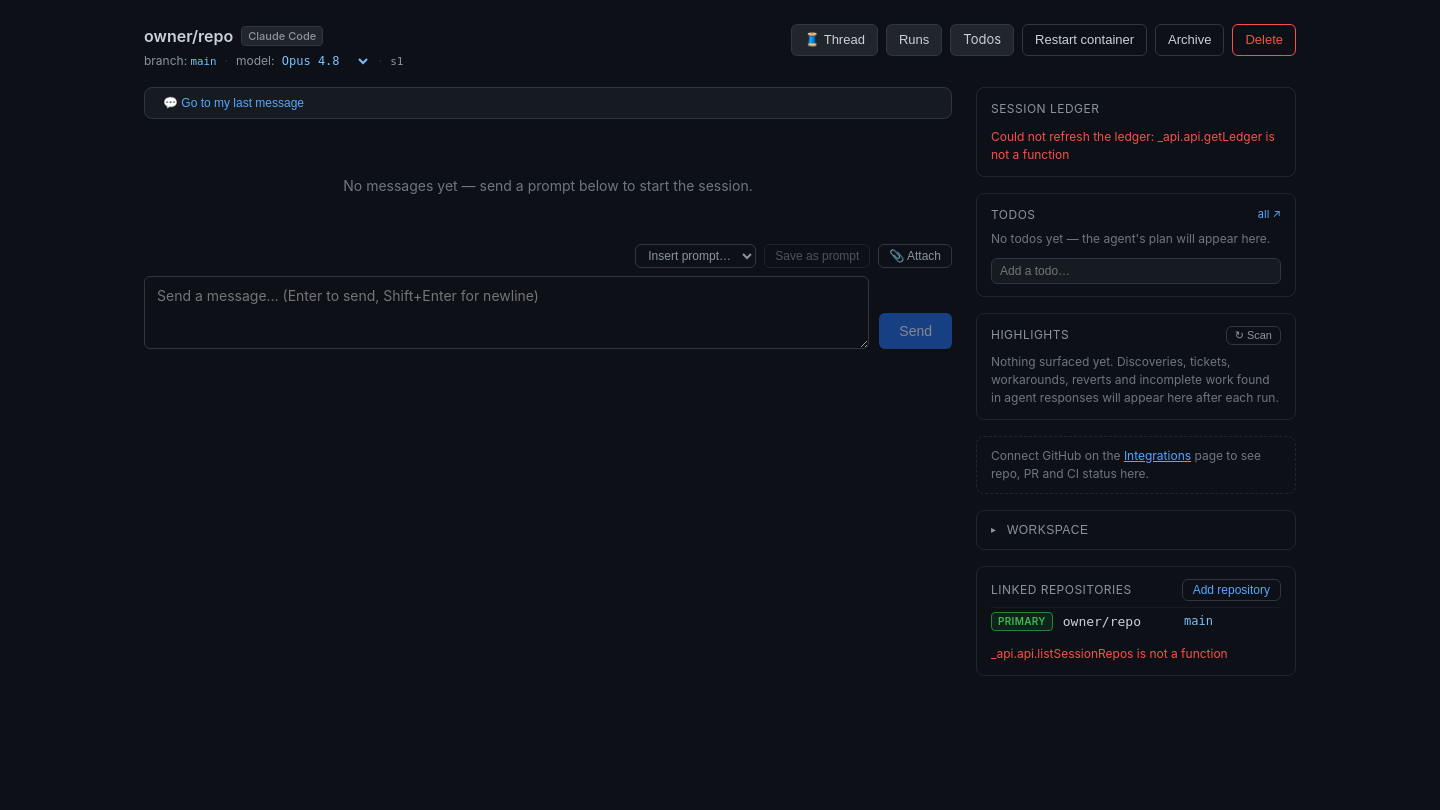
SessionDetail template modal › cancels without rendering and restores focus to the picker
This screenshot has width=1440, height=810.
Select "Greeting" in the dropdown named "Insert a saved prompt": [696, 256] box left=635, top=244, right=756, bottom=268
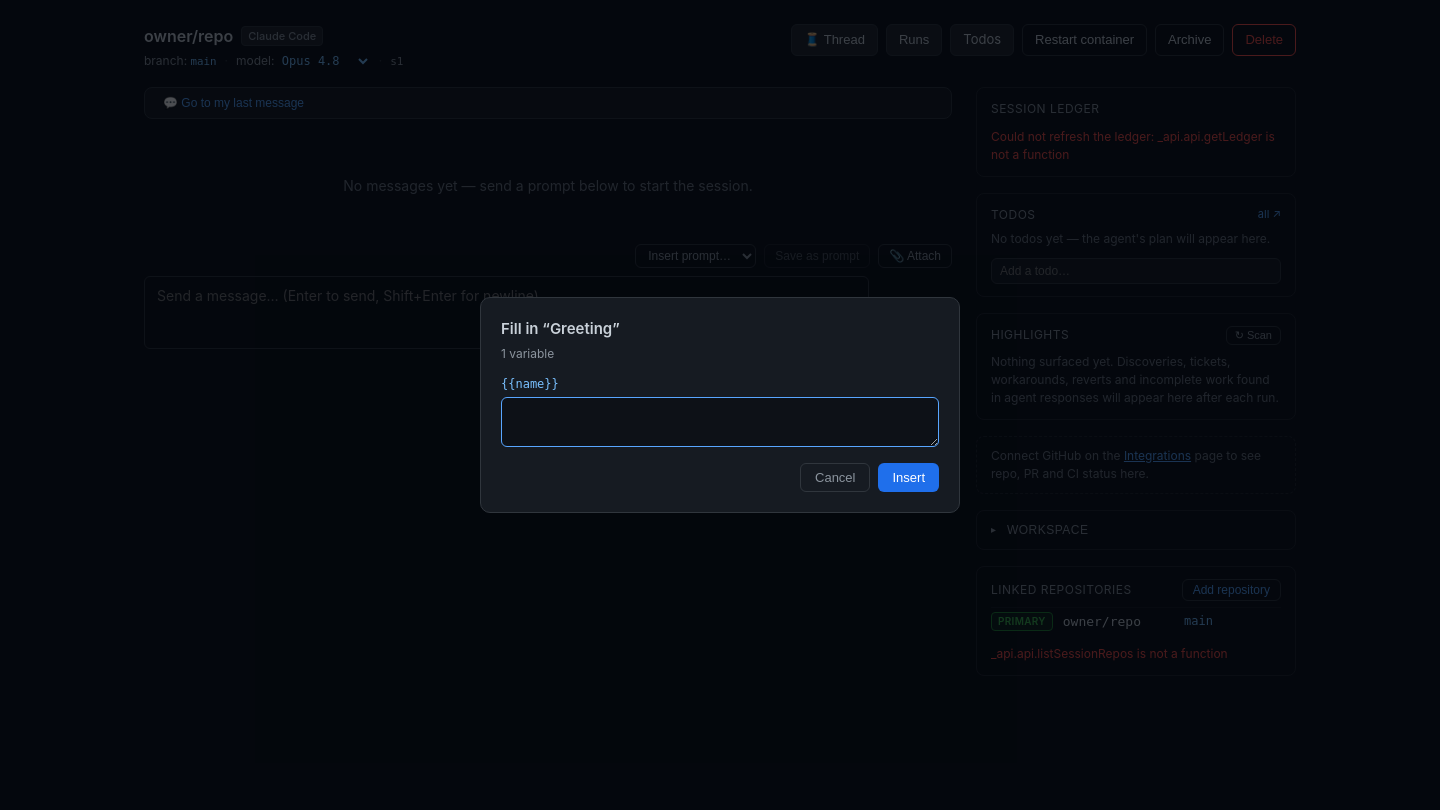
Click the button "Cancel": [835, 477] box left=800, top=463, right=870, bottom=492
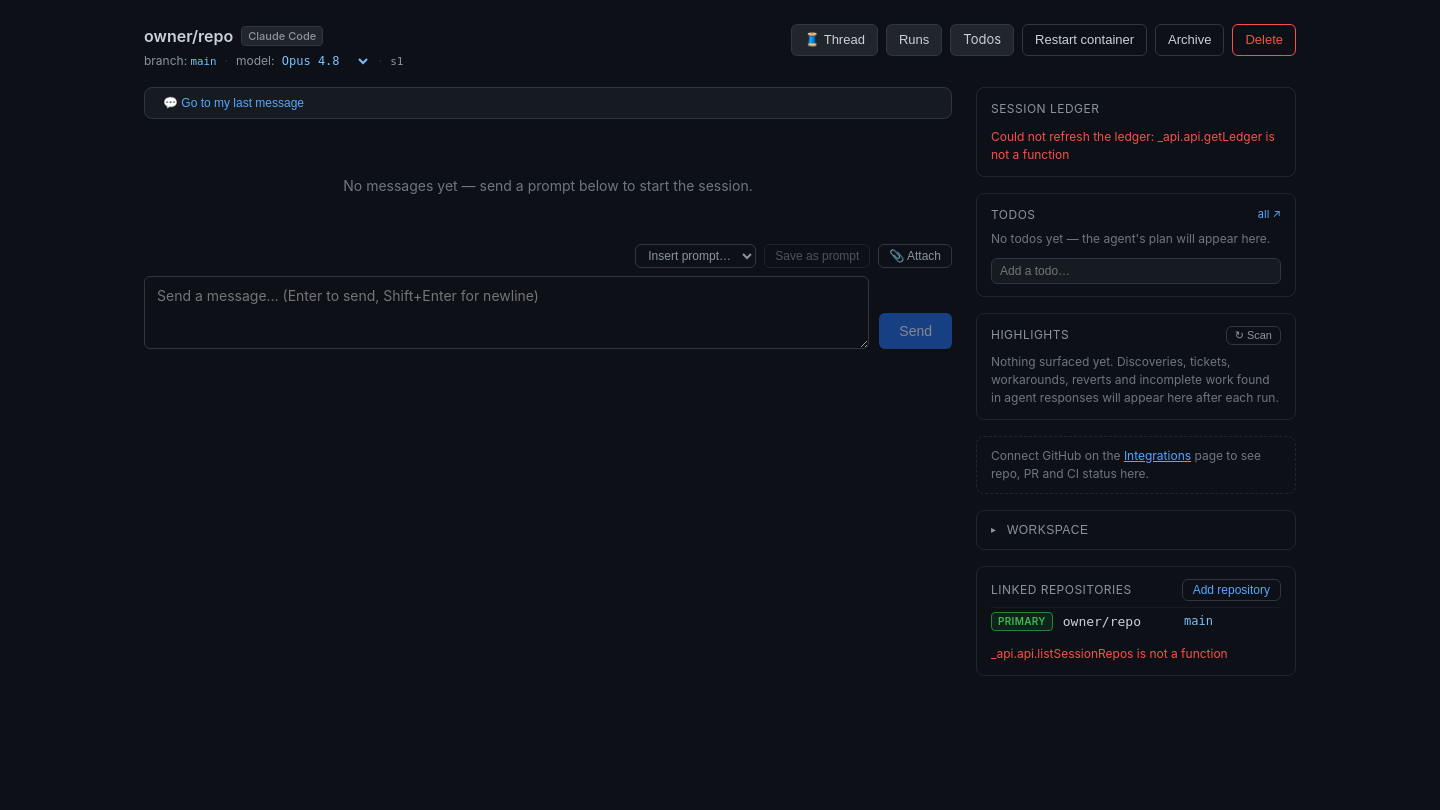
Expected: the text box with placeholder "Send a message… (Enter to send, Shift+Enter for newline)" is empty, left=144, top=276, right=869, bottom=348
Expected: the dialog is gone
